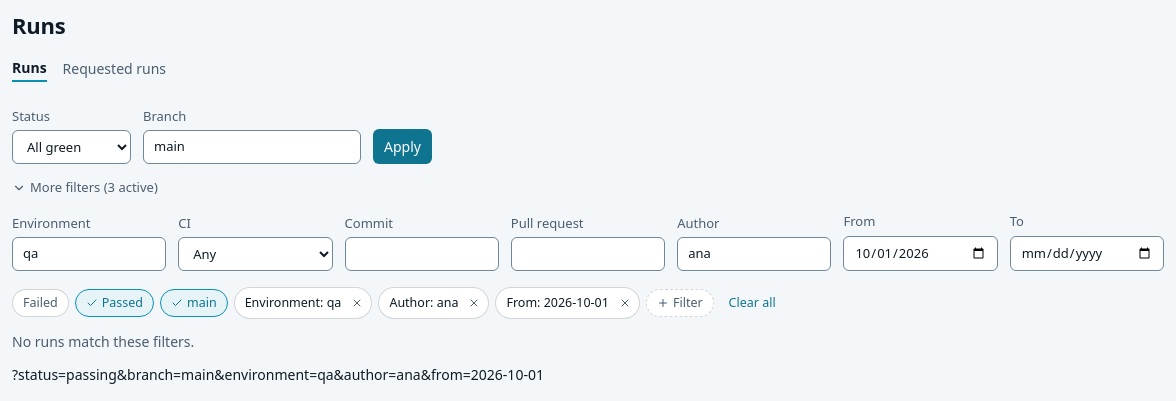
Test: Clear all drops every filter and refetches; the form has no second clear button
The image size is (1176, 401).
Click the button "Clear all".
click(752, 303)  # box [720,289,785,317]
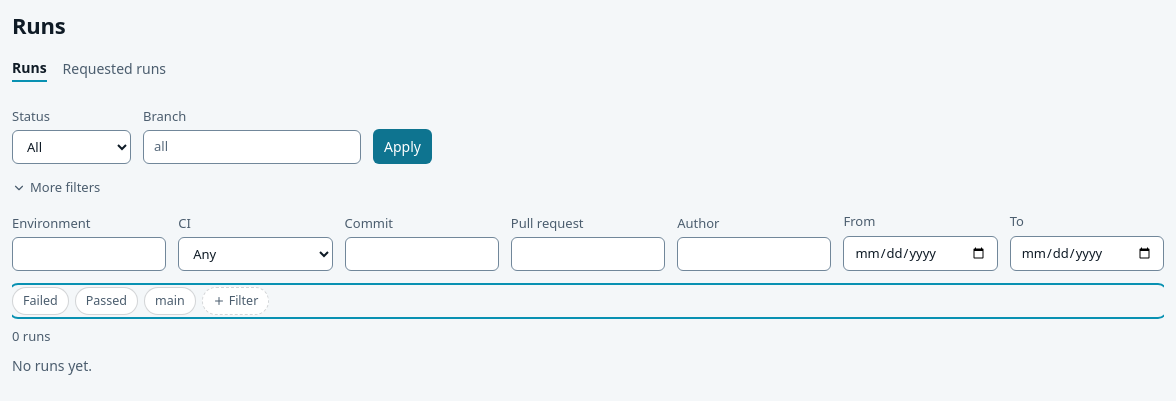
Expected: the text "No runs yet." is shown, [12,356,92,374]
Expected: the field labelled "Branch" is empty, [143,130,361,164]
